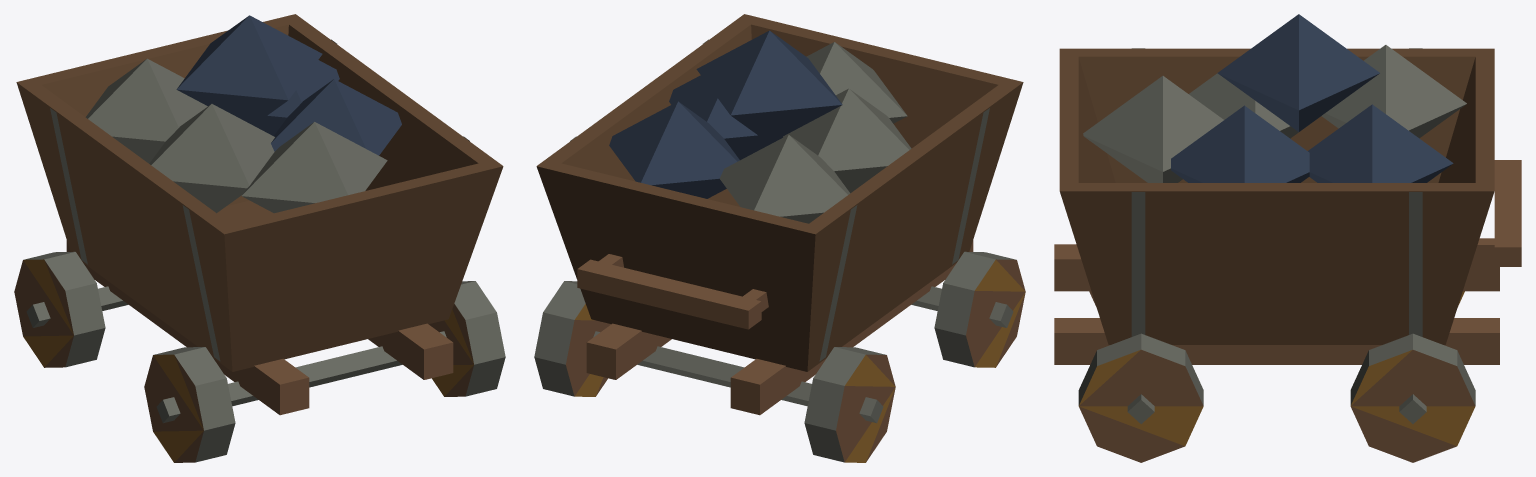
The model's file is minecart-full.glb.
The picture shows the model from 3 angles, left to right: view 1: azimuth 30°, elevation 25°; view 2: azimuth 150°, elevation 25°; view 3: azimuth 270°, elevation 25°; orthographic projection. The views are drawn at different scales.
Parts seen in each view (by area): view 1: cart_body, ore_load, wheel_l_rear, wheel_l_front, wheel_r_front; view 2: cart_body, ore_load, wheel_l_front, wheel_l_rear, wheel_r_rear; view 3: cart_body, ore_load, wheel_r_front, wheel_r_rear.
Boxes of the visible parts, x1,y1,x2,y2 form: cart_body: (16, 14, 503, 423); ore_load: (85, 15, 401, 213); wheel_l_rear: (14, 251, 105, 367); wheel_l_front: (144, 347, 235, 462); wheel_r_front: (429, 281, 505, 396); cart_body: (536, 14, 1023, 423); ore_load: (609, 30, 911, 223); wheel_l_front: (934, 251, 1025, 367); wheel_l_rear: (804, 347, 895, 462); wheel_r_rear: (534, 281, 610, 396); cart_body: (1054, 48, 1521, 423); ore_load: (1083, 14, 1466, 182); wheel_r_front: (1078, 333, 1203, 462); wheel_r_rear: (1350, 333, 1475, 462).
Bounding box in the file's own units: 0.48 × 0.5033 × 0.5733.
